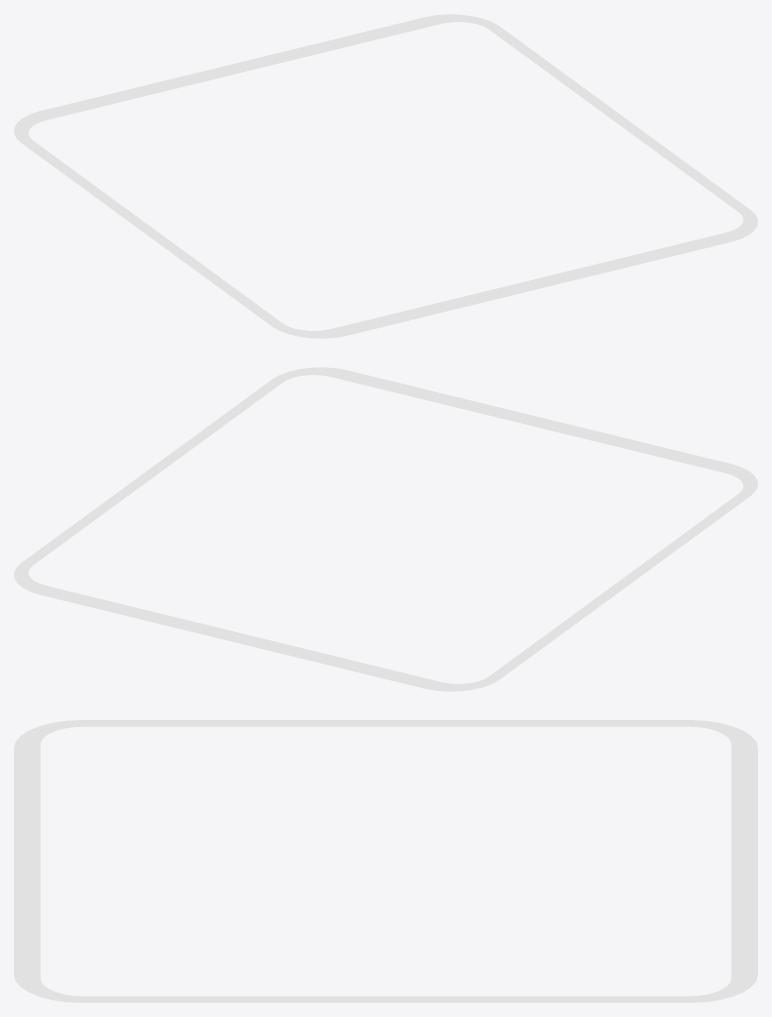
File: Border_Shadow.fbx
3 renders of one model, top to bottom at view 1: azimuth 30°, elevation 25°; view 2: azimuth 150°, elevation 25°; view 3: azimuth 270°, elevation 25°, orthographic. The views are drawn at different scales.
Visible parts, largest first — view 1: Shadow; view 2: Shadow; view 3: Shadow.
Boxes of the visible parts, x1,y1,x2,y2 form: Shadow: (14, 14, 757, 338); Shadow: (14, 367, 757, 691); Shadow: (14, 720, 757, 1002).
Size of the model in its own units: 1260 by 0.000256 by 1400.
Materials: 1 (1 with a texture image).
